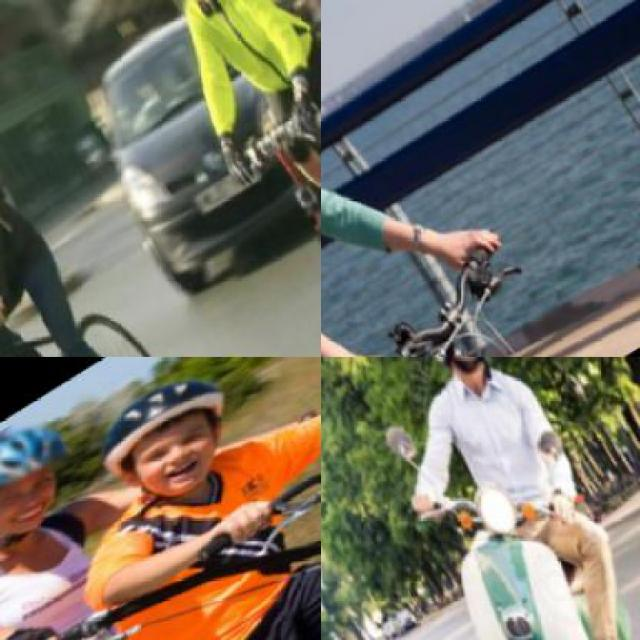With Helmet: (76, 357, 247, 498), (0, 407, 78, 530), (394, 357, 506, 397), (131, 0, 232, 23)
